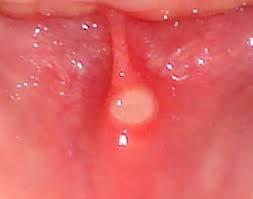Ulcer: (102, 64, 175, 131)
